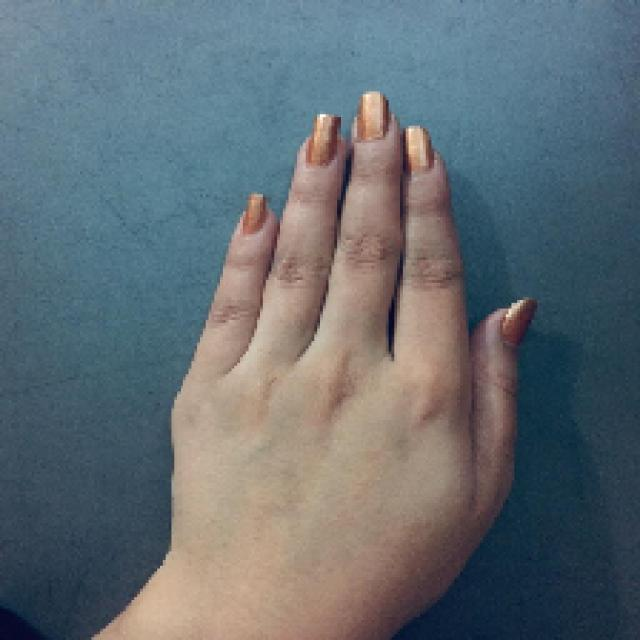Nail: (306, 114, 340, 165), (501, 299, 536, 346), (358, 91, 390, 141), (404, 126, 434, 172), (242, 194, 266, 234)
